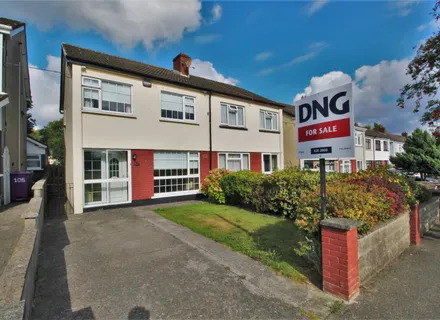property sign: (289, 81, 364, 170)
